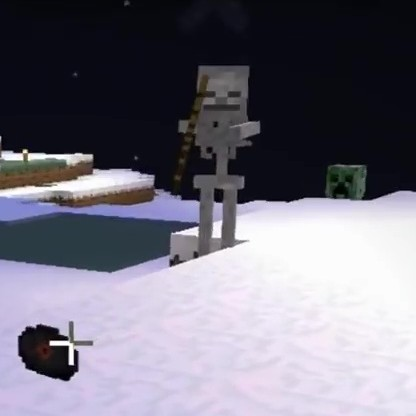skeleton: (182, 62, 265, 239)
